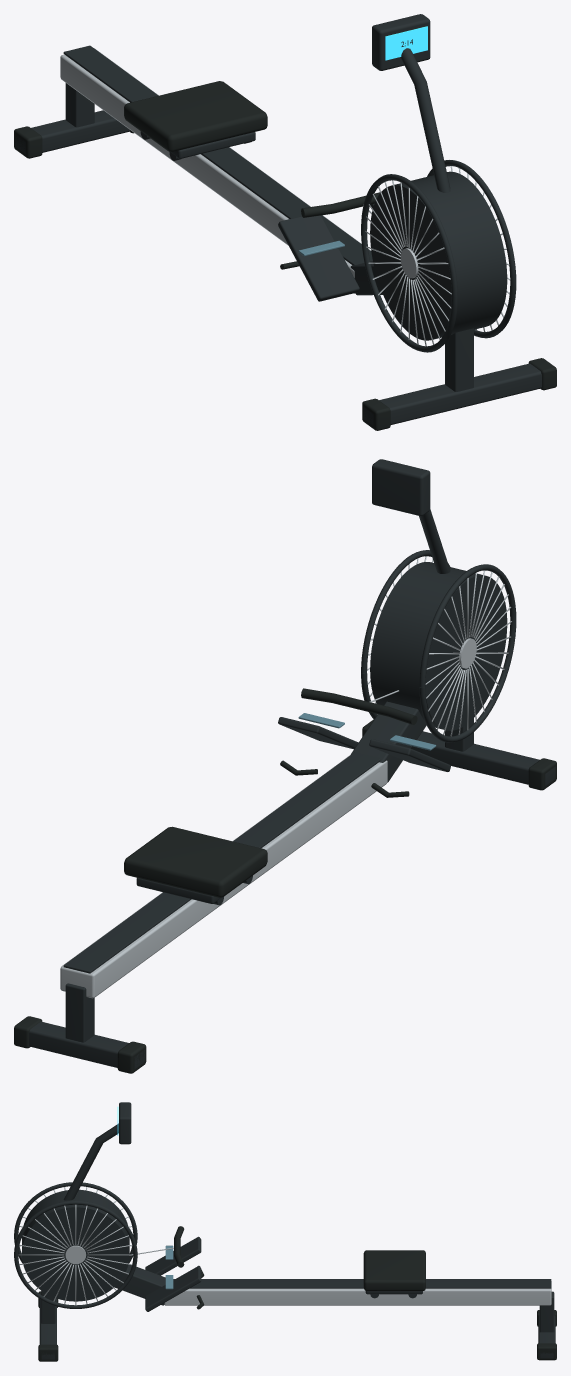
Rendered from rowing-machine.glb.
3 renders of one model, top to bottom at view 1: azimuth 30°, elevation 25°; view 2: azimuth 150°, elevation 25°; view 3: azimuth 270°, elevation 25°, orthographic. The views are drawn at different scales.
Parts seen in each view (by area): view 1: rowing-machine authored assembly; view 2: rowing-machine authored assembly; view 3: rowing-machine authored assembly.
Part boxes in pixels (x1,y1,x2,y2): rowing-machine authored assembly: (14, 14, 556, 430); rowing-machine authored assembly: (14, 459, 556, 1073); rowing-machine authored assembly: (14, 1102, 556, 1361).
Size of the model in its own units: 0.62 by 1.15 by 2.44.
